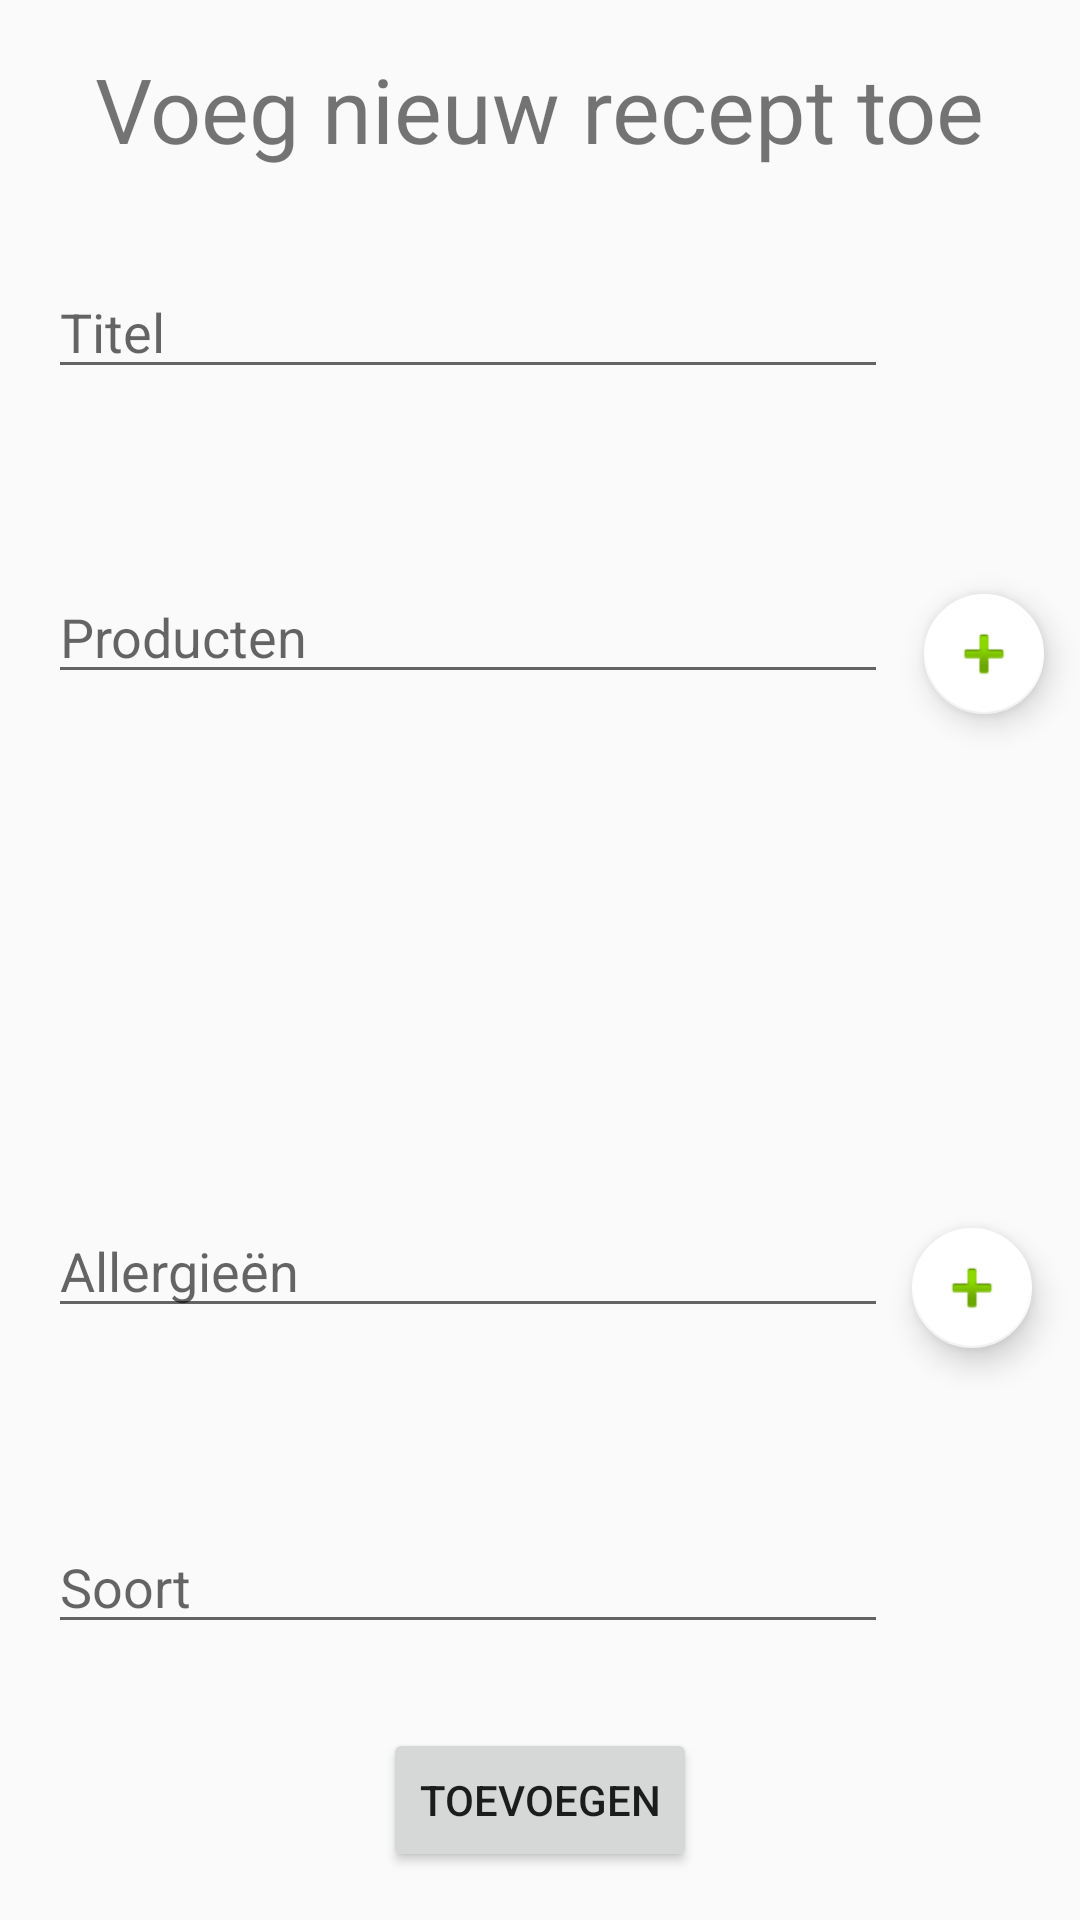

Icons on this 1080w x 1920h Android screen, each with its box as region(x1, y1, x2, y2):
add: region(924, 594, 1044, 714), region(912, 1228, 1032, 1348)
